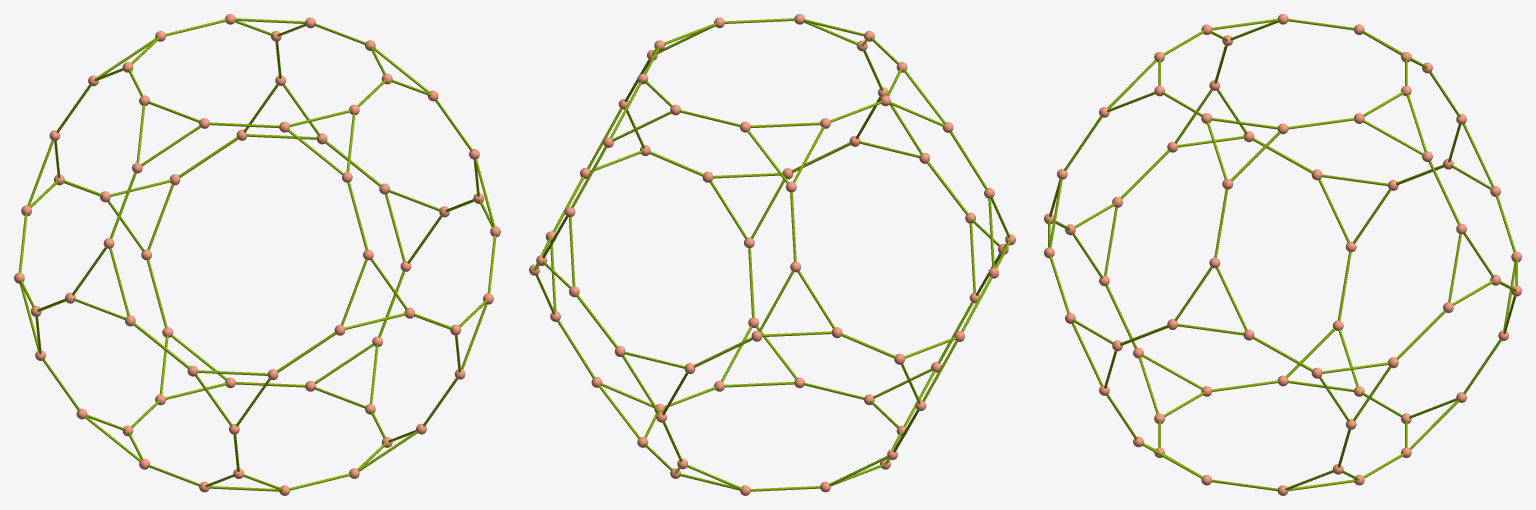
The model's file is truncated_dodecahedron.glb.
3 renders of one model, left to right at view 1: azimuth 30°, elevation 25°; view 2: azimuth 150°, elevation 25°; view 3: azimuth 270°, elevation 25°, orthographic.
Bounding box in the file's own units: 8.98 × 7.67 × 8.95.
